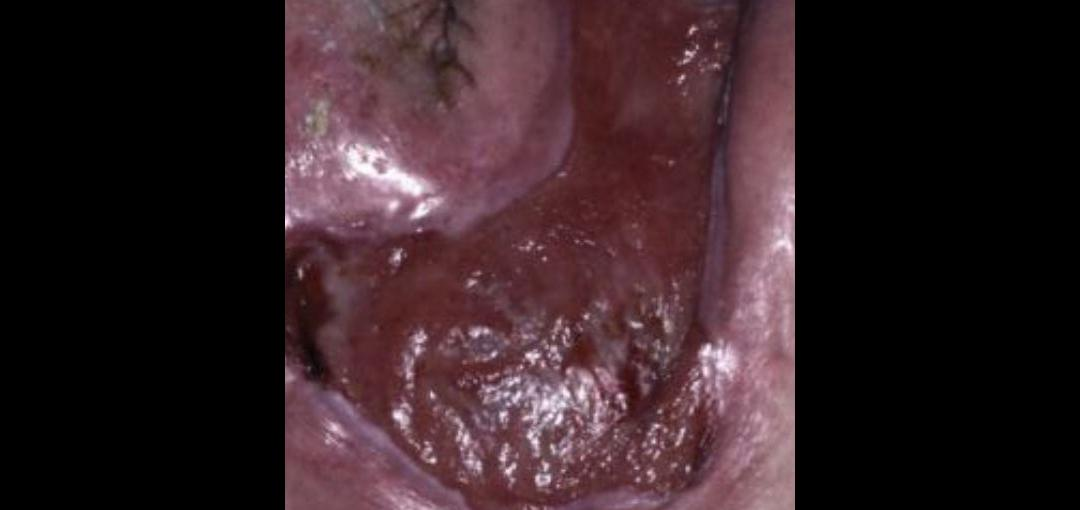Stage3: (285, 0, 777, 510)
